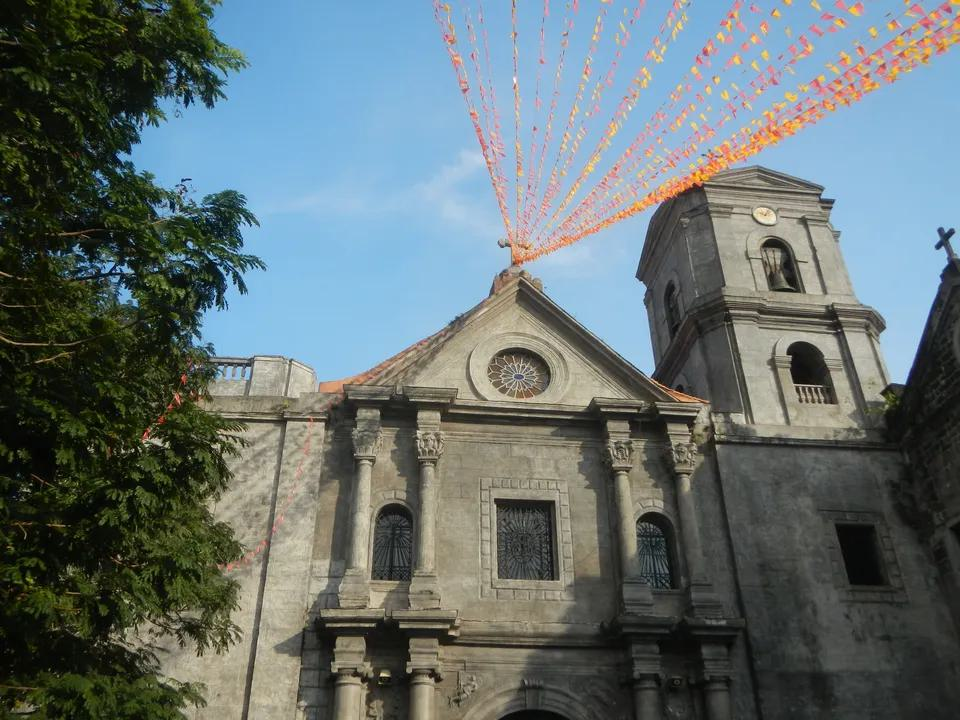Environmental Damage: (862, 387, 911, 438)
San Agustin Church: (295, 126, 931, 720)
